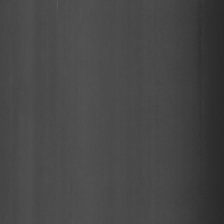silk_spot: (49, 48, 73, 122)
